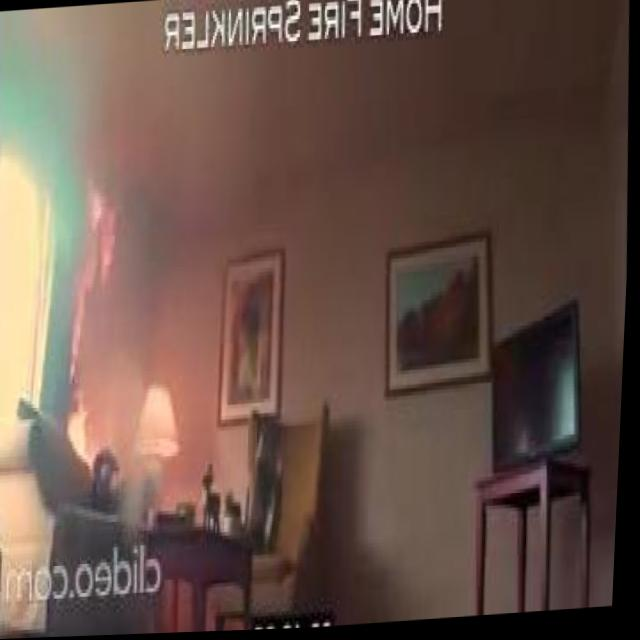fire: (63, 148, 134, 384), (65, 381, 111, 472)
